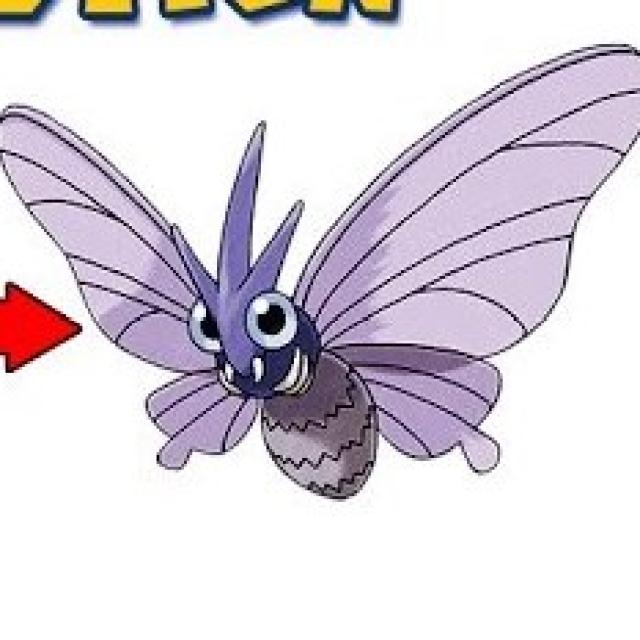Venomoth: (53, 116, 521, 498)
